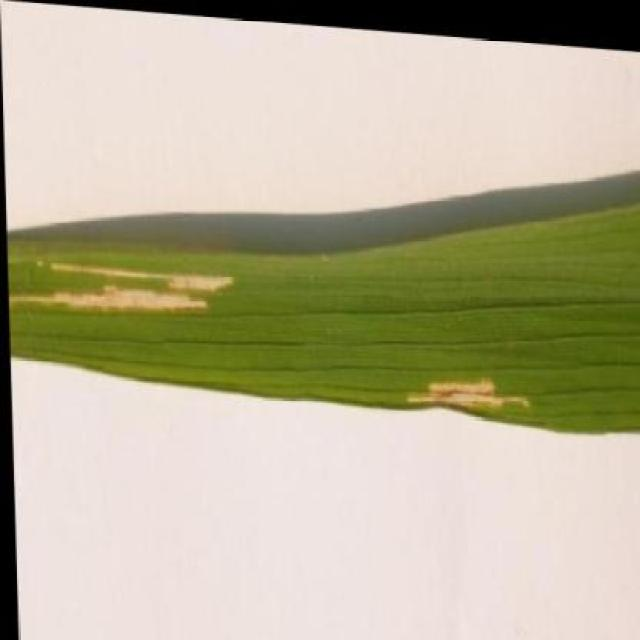Brown_Spot: (6, 192, 636, 452)
